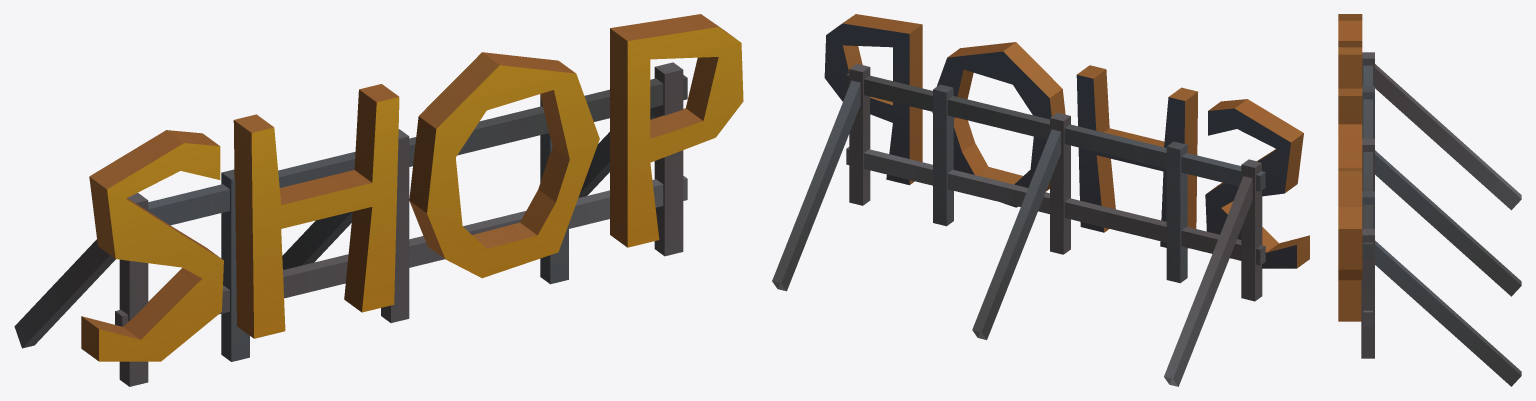
File: SM_Hoarding_03.FBX
3 views of the same model, side by side, from view 1: azimuth 30°, elevation 25°; view 2: azimuth 150°, elevation 25°; view 3: azimuth 270°, elevation 25° (orthographic). The views are drawn at different scales.
Visible parts, largest first — view 1: SM_Hoarding_03; view 2: SM_Hoarding_03; view 3: SM_Hoarding_03.
Boxes of the visible parts, <box> form: SM_Hoarding_03: <box>14,14,743,386</box>; SM_Hoarding_03: <box>772,14,1309,386</box>; SM_Hoarding_03: <box>1338,14,1521,386</box>.
Size of what is drawn, in the model's own units: 849 by 310 by 367.
